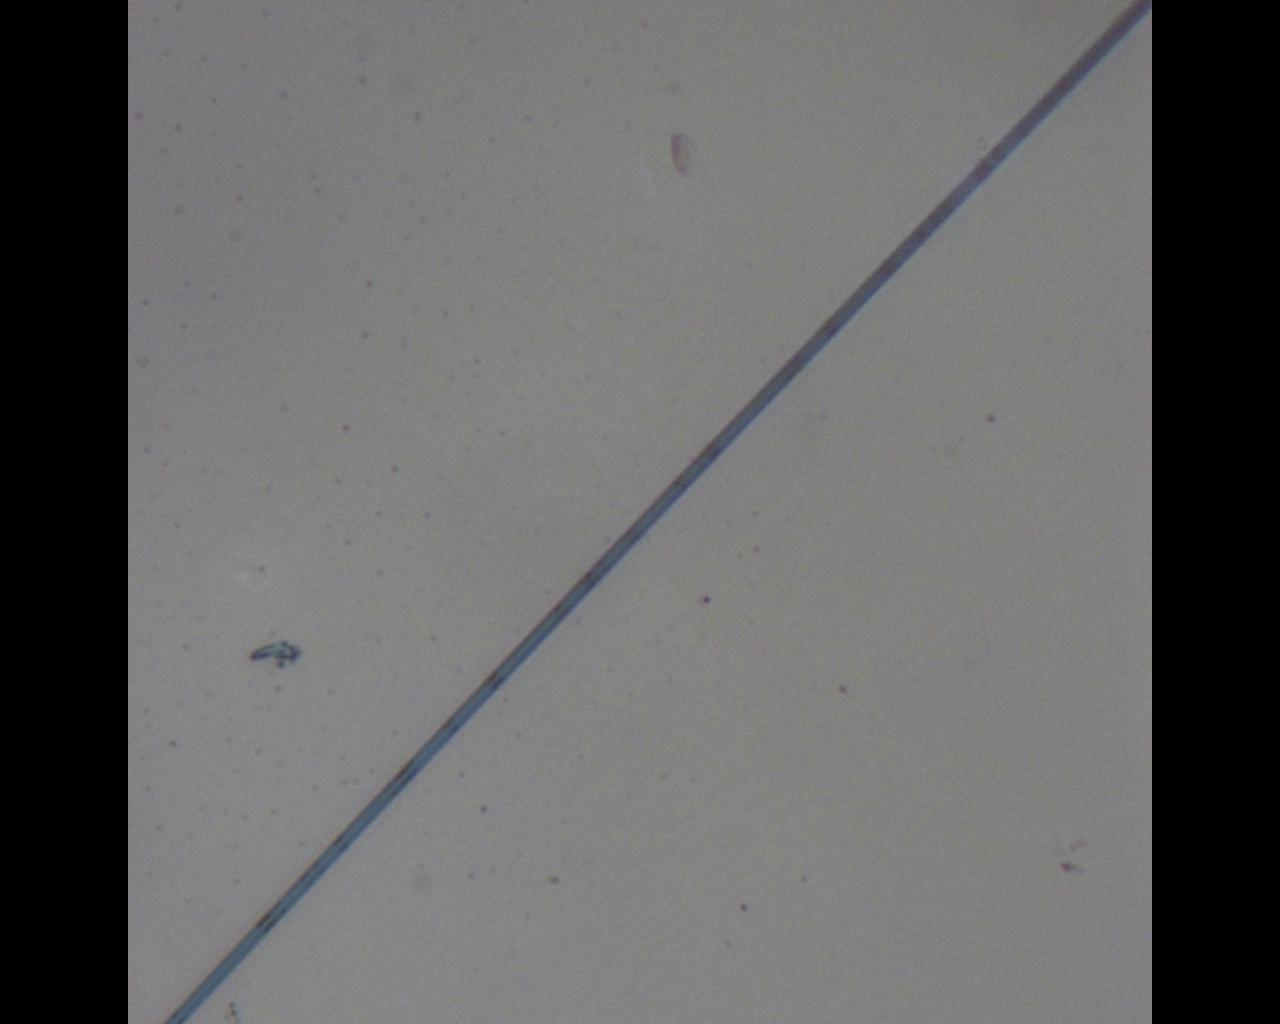fiber: (162, 0, 1151, 1024)
